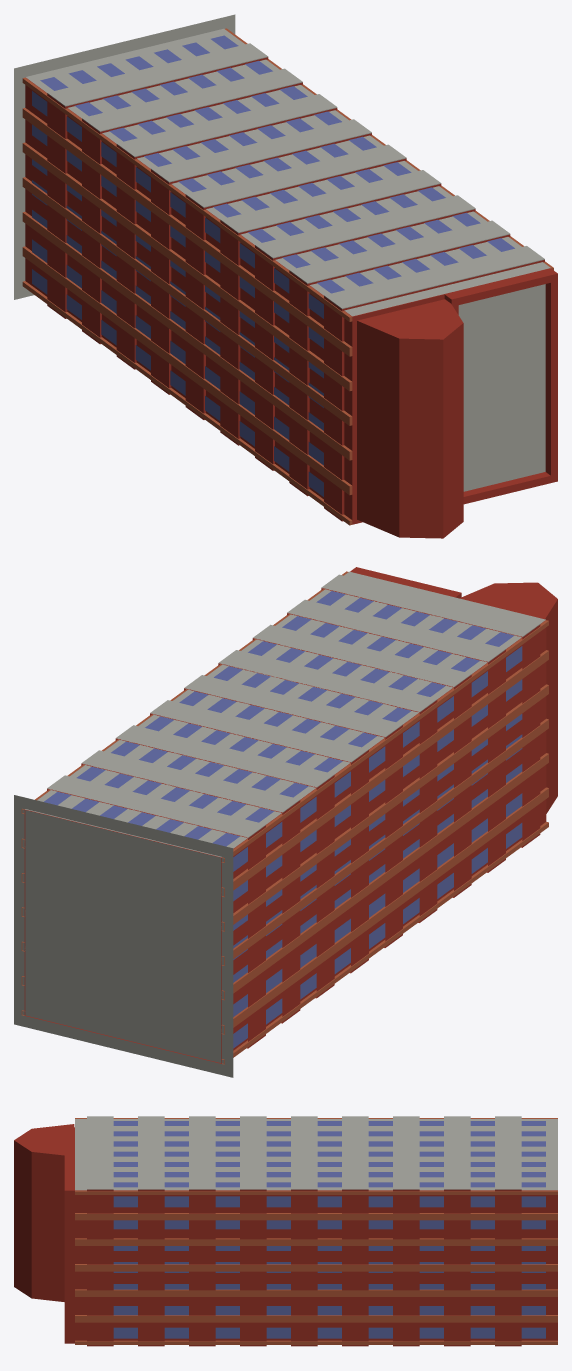
The model's file is complete.glb.
The picture shows the model from 3 angles, top to bottom: view 1: azimuth 30°, elevation 25°; view 2: azimuth 150°, elevation 25°; view 3: azimuth 270°, elevation 25°; orthographic projection. The views are drawn at different scales.
Visible parts, largest first — view 1: complete; view 2: complete; view 3: complete.
Boxes of the visible parts, box(x1,y1,x2,y2) form: complete: box(14, 14, 557, 538); complete: box(14, 567, 557, 1077); complete: box(14, 1116, 557, 1346).
Size of the model in its own units: 15.6 by 15.6 by 45.05.
